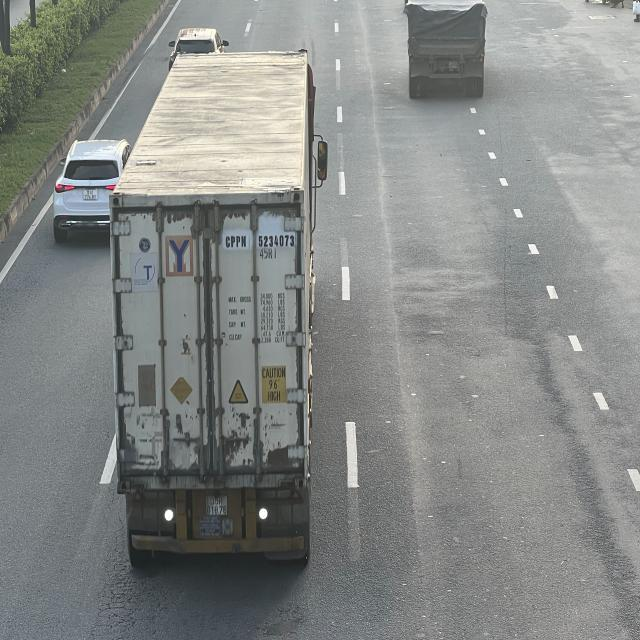car: (53, 141, 127, 246)
container: (114, 50, 330, 582), (405, 2, 490, 102)
